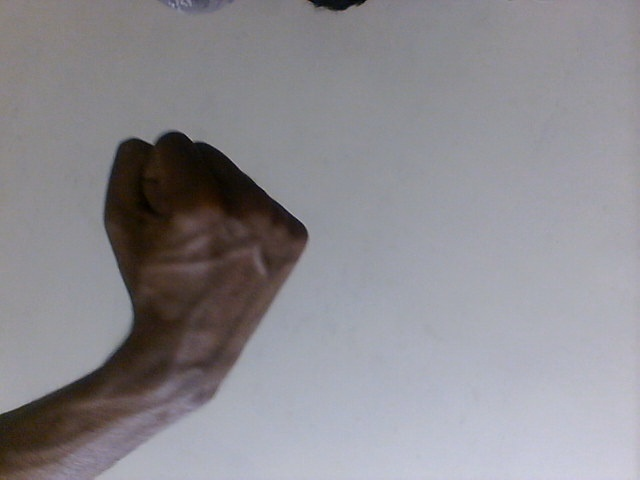hand: (96, 129, 311, 388)
